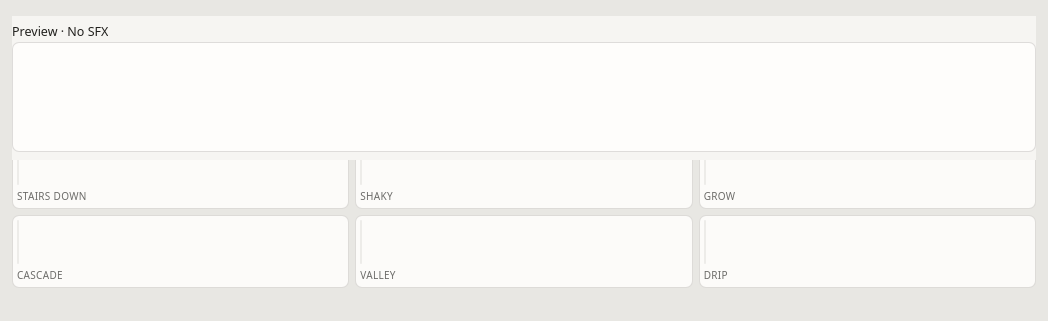
Test: a preset that is the box's mesh › is Custom once its mesh is edited, and the next preset leaves that mesh
Click the radio button labelled "Valley" at (378, 275), box [355,215,693,288]
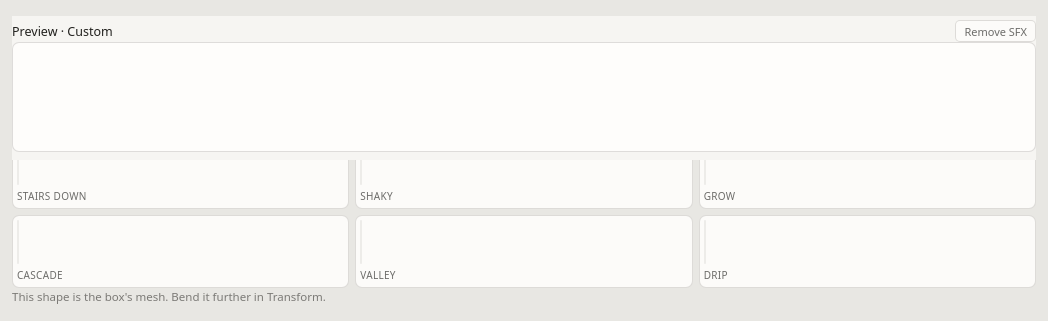
Expected: the text "Preview · Custom" is shown, [12,22,113,40]
Expected: the text "This shape is the box's mesh. Bend it further in Transform." is shown, [12,289,326,304]
Another preset takes the arch's own mesh away, but not this edited one.
Click the radio button labelled "Stairs down" at (52, 196), box [12,136,349,209]
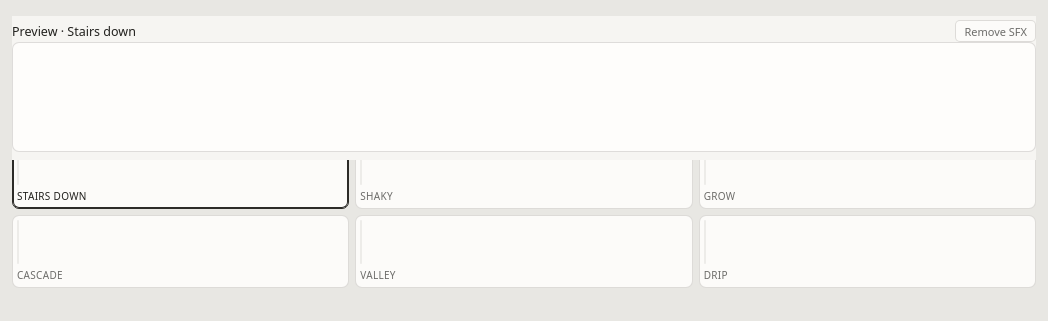
Expected: the text "This shape is the box's mesh. Bend it further in Transform." is gone
